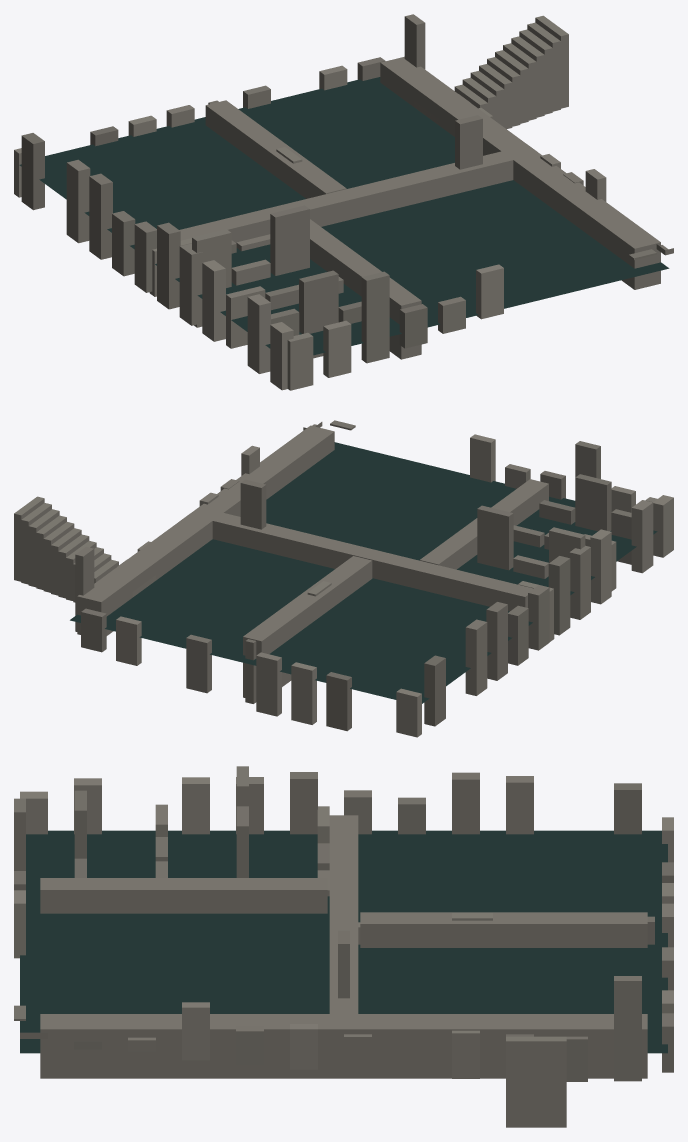
The model's file is sutroBaths_lod1.glb.
3 renders of one model, top to bottom at view 1: azimuth 30°, elevation 25°; view 2: azimuth 150°, elevation 25°; view 3: azimuth 270°, elevation 25°, orthographic. The views are drawn at different scales.
Visible parts, largest first — view 1: L1_concrete, L1_water; view 2: L1_concrete, L1_water; view 3: L1_concrete, L1_water.
Part boxes in pixels (x1=…): L1_concrete: x1=14, y1=14, x2=673, y2=390; L1_water: x1=19, y1=77, x2=669, y2=355; L1_concrete: x1=14, y1=420, x2=673, y2=737; L1_water: x1=70, y1=442, x2=657, y2=703; L1_concrete: x1=14, y1=766, x2=673, y2=1127; L1_water: x1=20, y1=830, x2=667, y2=1053.
Bounding box in the file's own units: 33.4 × 7.4 × 32.6.
